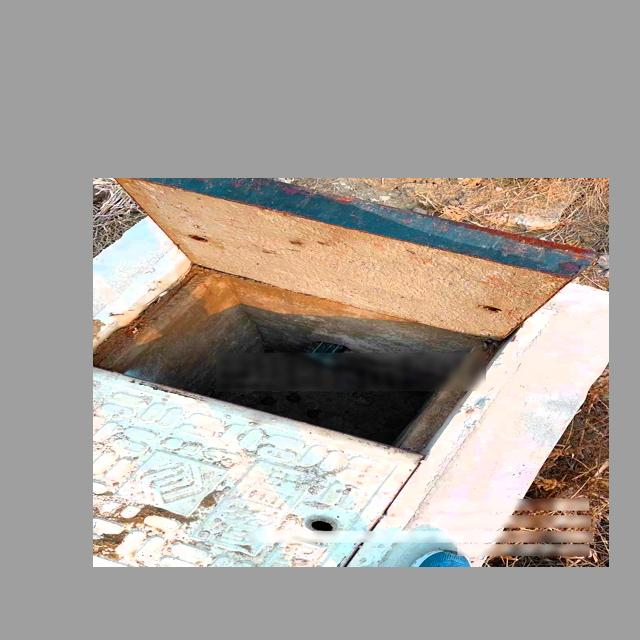uncovered: (93, 177, 603, 567)
